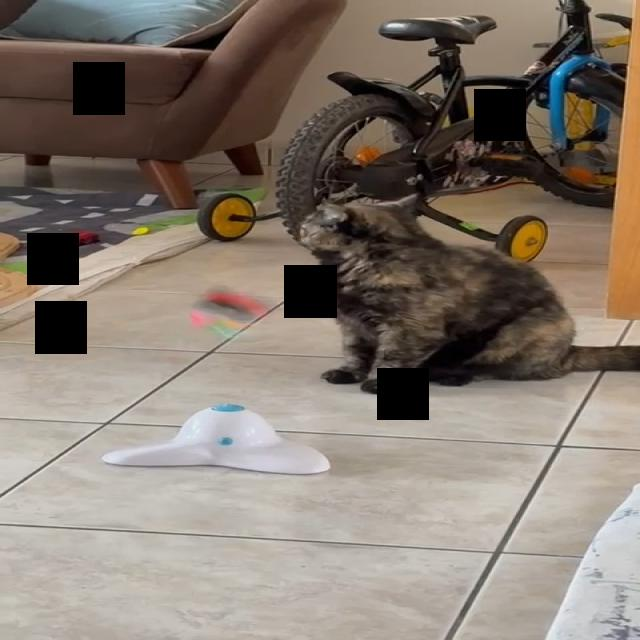authorized: (296, 192, 639, 394)
